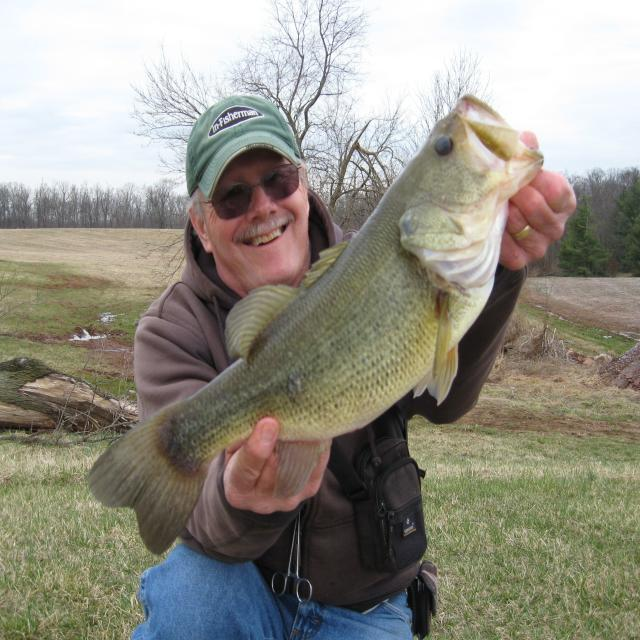Bass - Largemouth: (89, 95, 543, 553)
